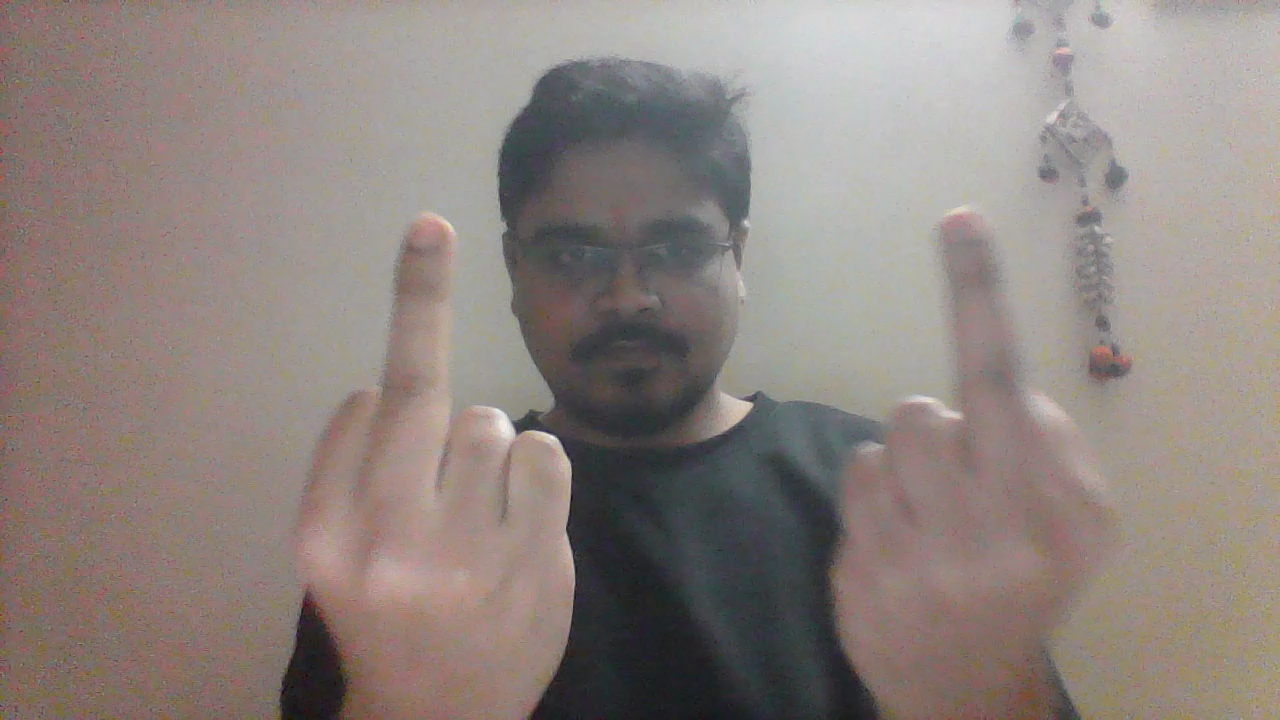Fuck Off: (297, 208, 572, 700)
